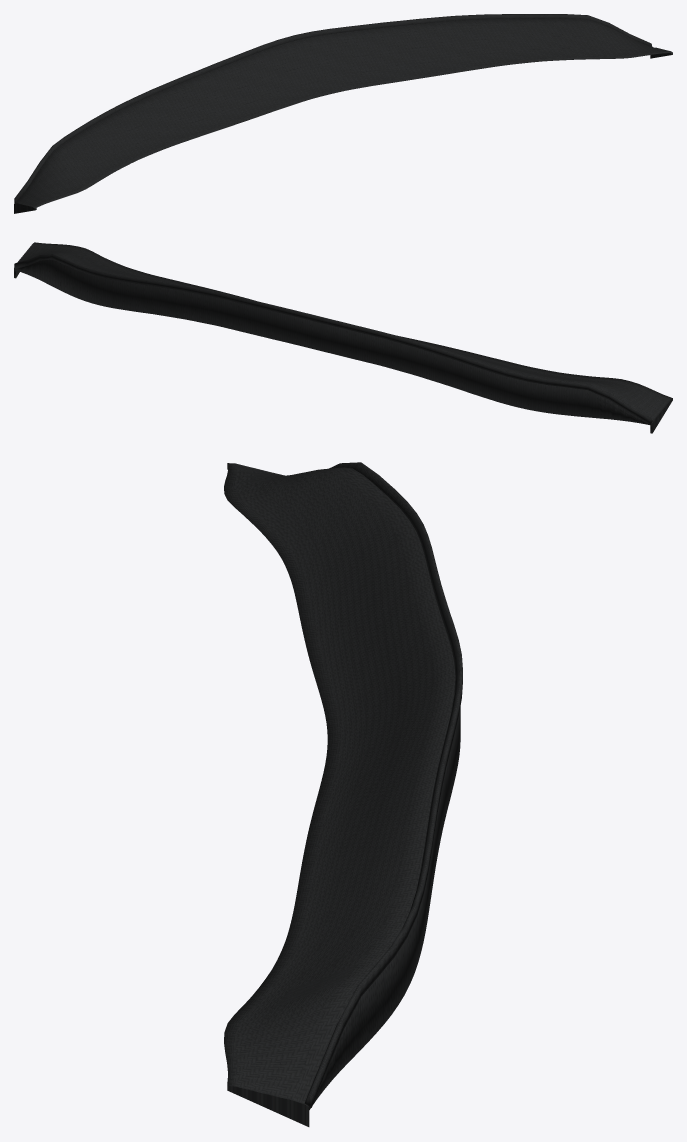
Rendered from WB14_widebody_ducktail_carbon.glb.
The picture shows the model from 3 angles, top to bottom: view 1: azimuth 30°, elevation 25°; view 2: azimuth 150°, elevation 25°; view 3: azimuth 270°, elevation 25°; orthographic projection. The views are drawn at different scales.
Visible parts, largest first — view 1: MOD_NB_WB14_spoiler, MOD_NB_WB14_gurney; view 2: MOD_NB_WB14_spoiler, MOD_NB_WB14_gurney; view 3: MOD_NB_WB14_spoiler, MOD_NB_WB14_gurney, MOD_NB_WB14_cap_L.
Part boxes in pixels (left/top/right/bottom): MOD_NB_WB14_spoiler: left=16, top=18, right=671, bottom=207; MOD_NB_WB14_gurney: left=14, top=14, right=652, bottom=203; MOD_NB_WB14_spoiler: left=15, top=242, right=671, bottom=425; MOD_NB_WB14_gurney: left=14, top=253, right=652, bottom=424; MOD_NB_WB14_spoiler: left=224, top=464, right=460, bottom=1109; MOD_NB_WB14_gurney: left=304, top=462, right=462, bottom=1107; MOD_NB_WB14_cap_L: left=227, top=1085, right=309, bottom=1126.
Size of the model in its own units: 1.22 by 0.133 by 0.1978.
1 material, 1 textured.
